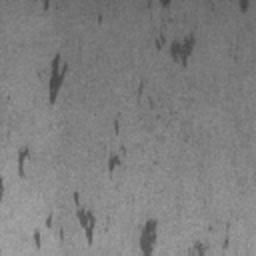Red iron sheet: (33, 191, 95, 250), (140, 219, 229, 256), (155, 0, 195, 67), (49, 53, 68, 105), (18, 146, 30, 178), (108, 154, 121, 172), (239, 0, 249, 13), (137, 80, 144, 97), (114, 119, 120, 134)
